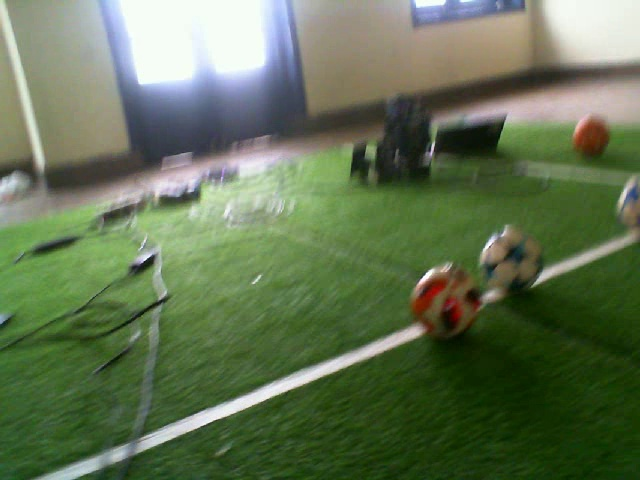ball: (410, 262, 483, 339), (484, 226, 546, 298)
